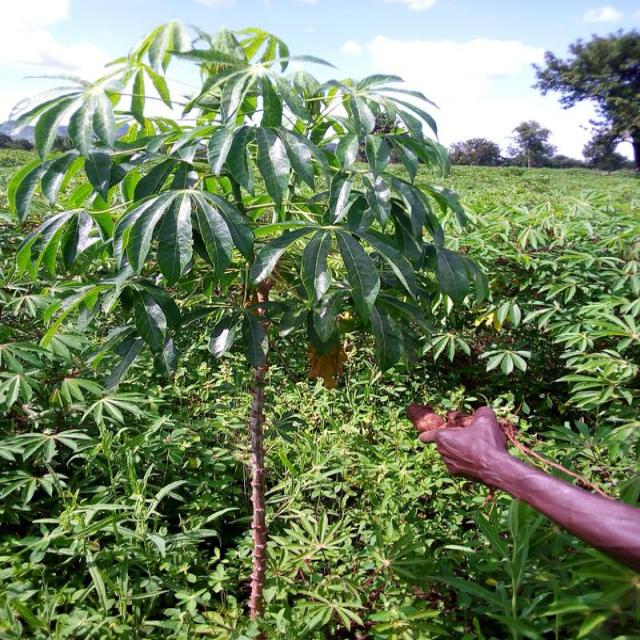cassava leaf: (6, 19, 489, 390), (408, 400, 640, 571)
